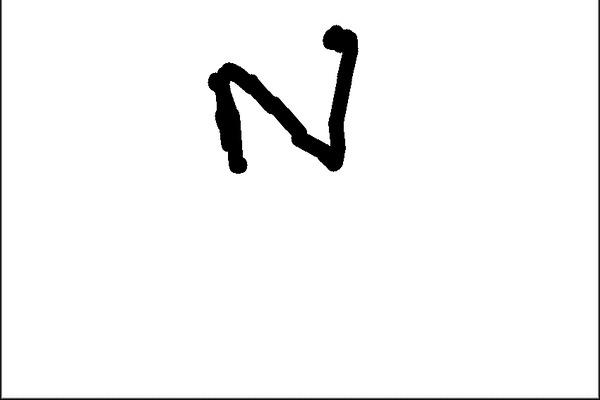N: (202, 20, 362, 178)
